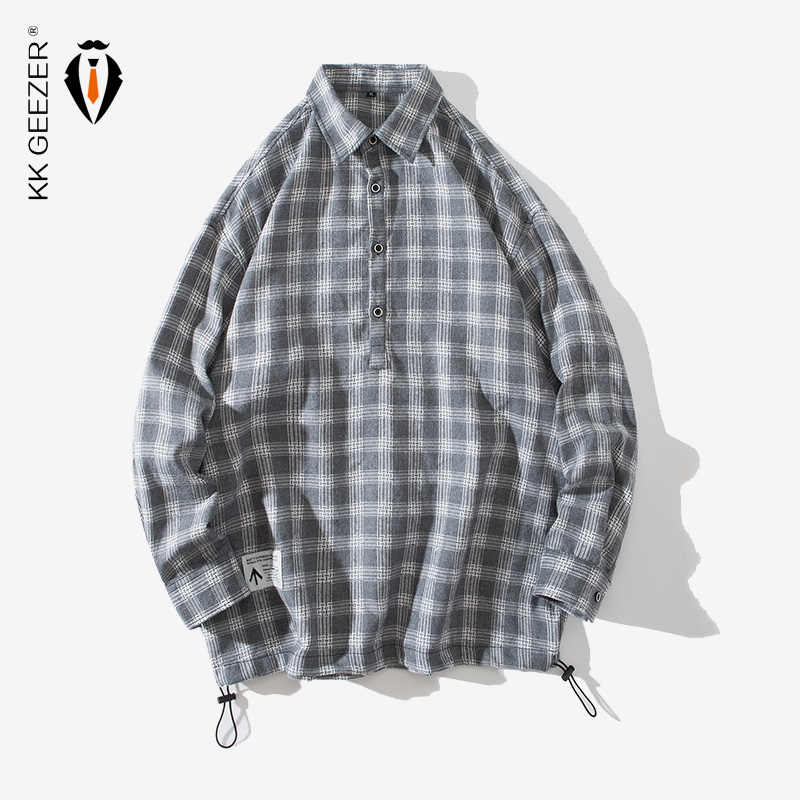squared: (121, 55, 641, 692)
